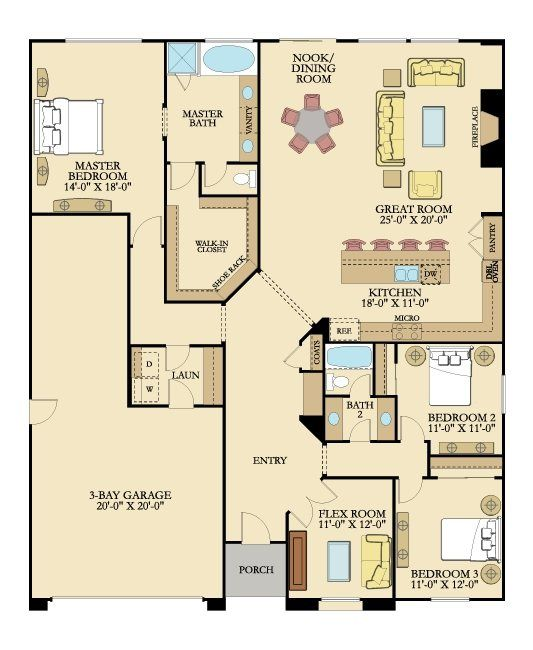room: (254, 36, 507, 344), (22, 399, 226, 614), (26, 211, 131, 604), (26, 38, 168, 218), (389, 453, 505, 603), (284, 472, 397, 615), (391, 338, 505, 458), (161, 35, 261, 167), (162, 191, 261, 307), (125, 341, 228, 408), (321, 393, 399, 444), (322, 340, 376, 398), (193, 159, 262, 199)
